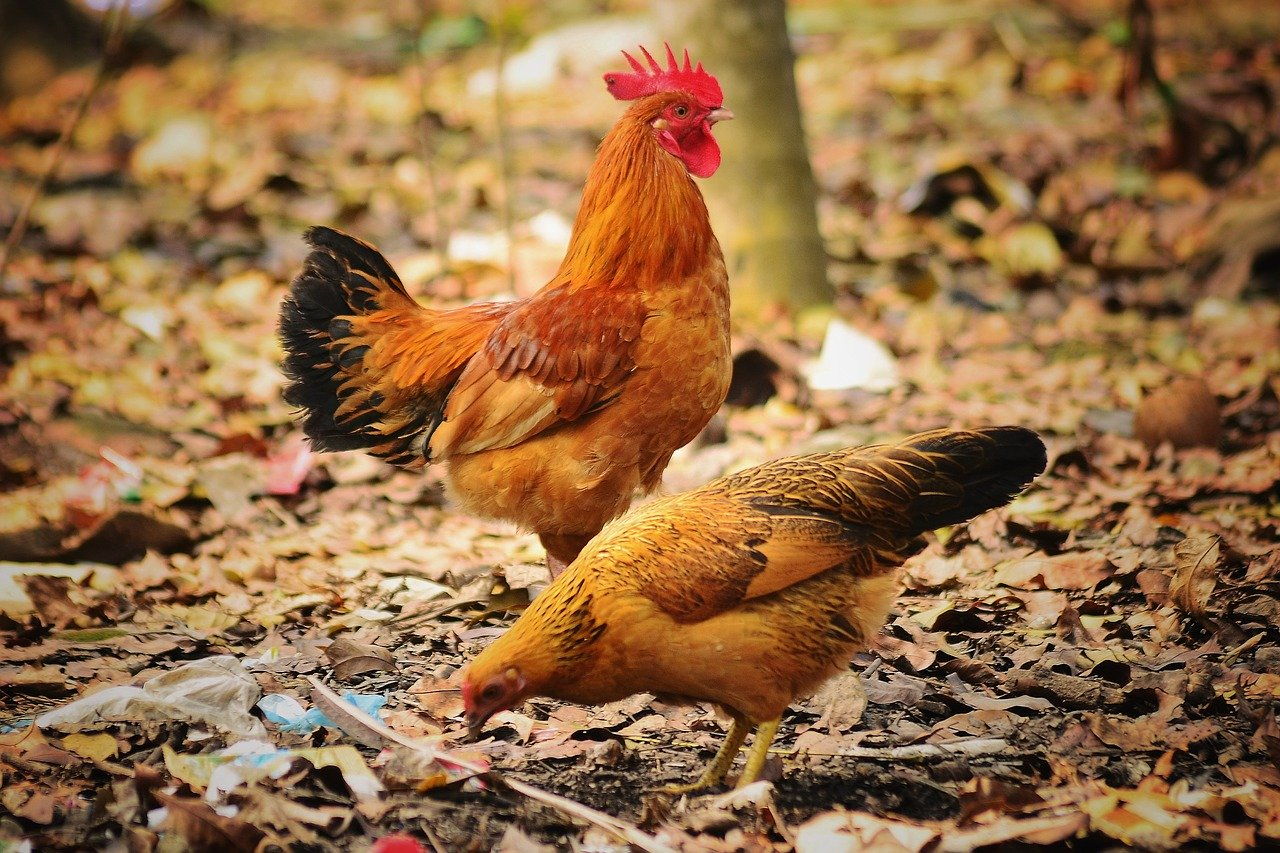chicken: (416, 412, 1066, 812), (285, 35, 739, 532)
